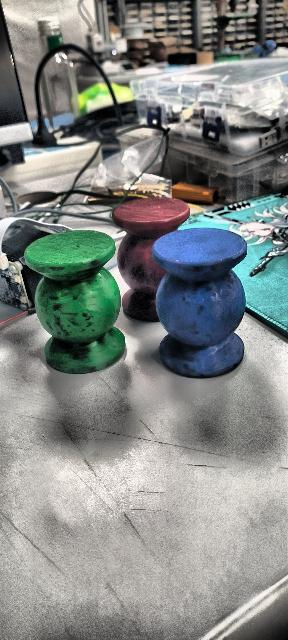blue: (151, 226, 247, 378)
green: (28, 230, 134, 375)
red: (112, 200, 193, 324)
